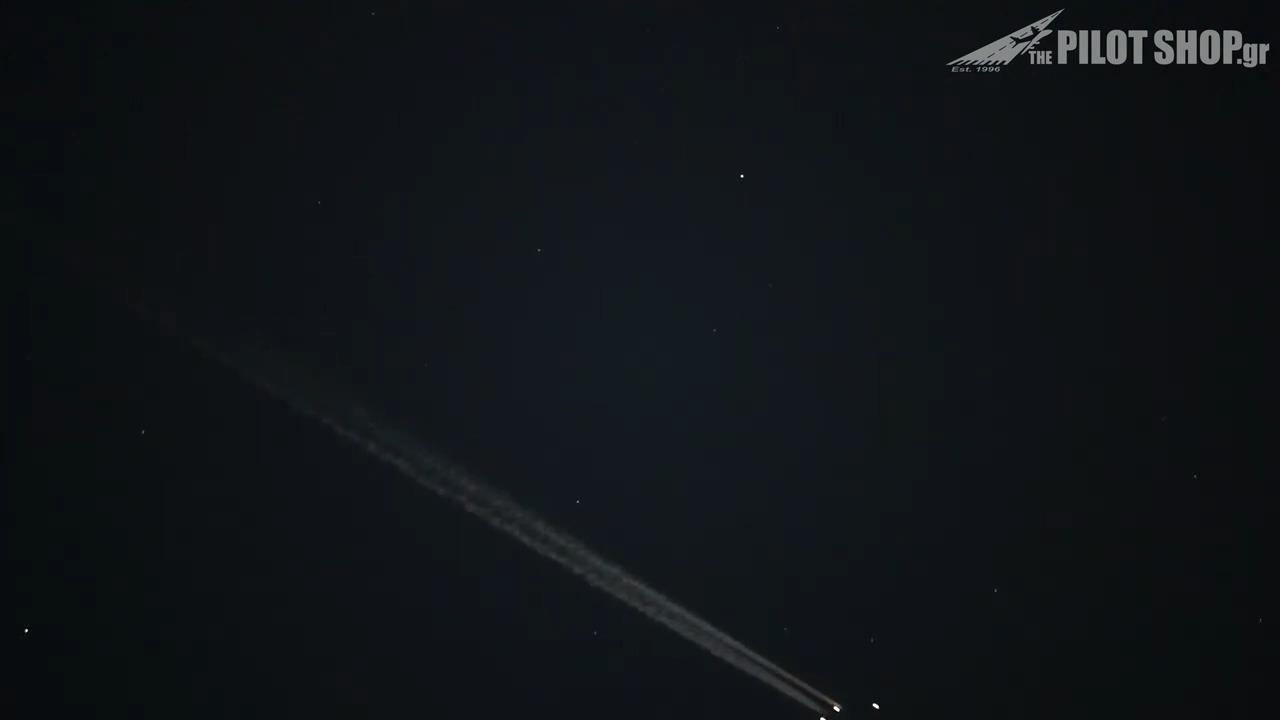Plane: (770, 680, 908, 720)
